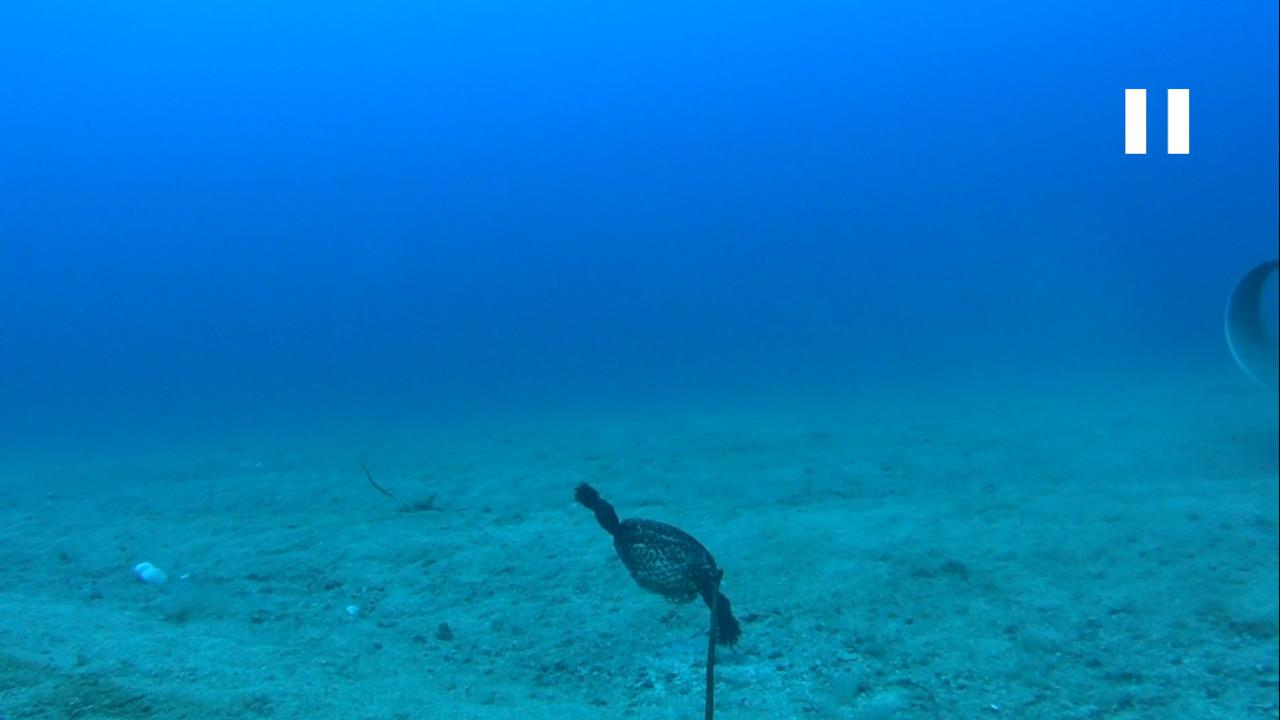myliobatis: (1218, 246, 1279, 390)
